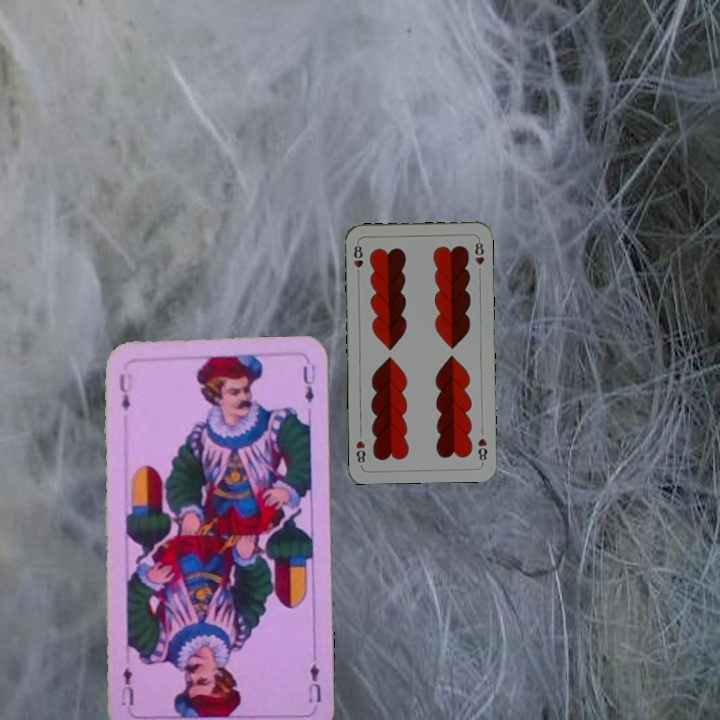EU: (304, 658, 323, 705), (116, 368, 135, 414)
H8: (350, 239, 365, 279), (474, 434, 489, 465)
